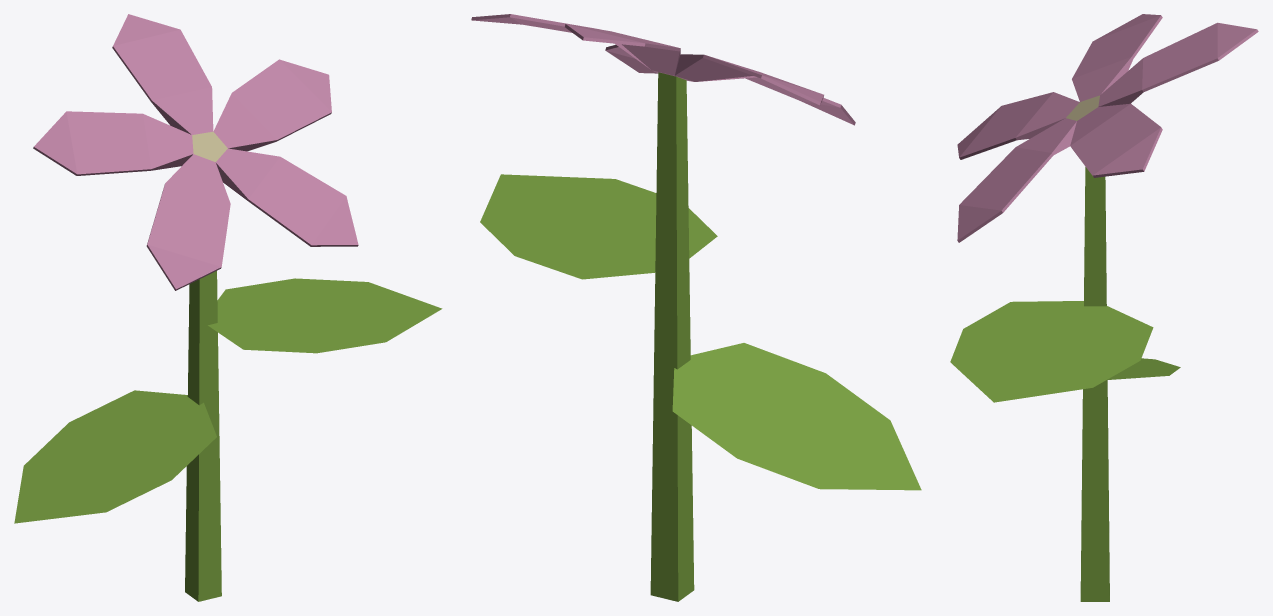
File: wild_pz_flower_26.glb
3 renders of one model, left to right at view 1: azimuth 30°, elevation 25°; view 2: azimuth 150°, elevation 25°; view 3: azimuth 270°, elevation 25°, orthographic. The views are drawn at different scales.
Visible parts, largest first — view 1: pg_flower_26; view 2: pg_flower_26; view 3: pg_flower_26.
Part boxes in pixels (box(x1,y1,x2,y2)): pg_flower_26: box(14, 14, 442, 601); pg_flower_26: box(471, 14, 921, 601); pg_flower_26: box(950, 14, 1258, 601).
Size of the model in its own units: 0.4581 by 0.5861 by 0.2893.
